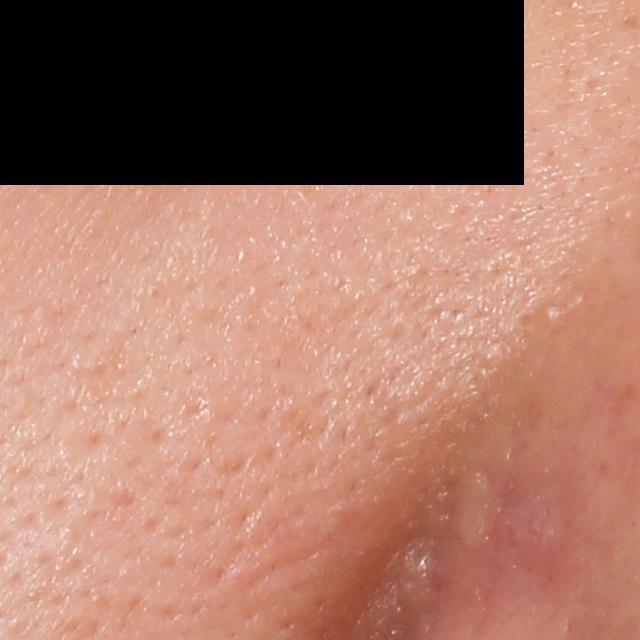comedo: (531, 300, 565, 328)
hypertrophic_scar: (440, 459, 507, 561)
